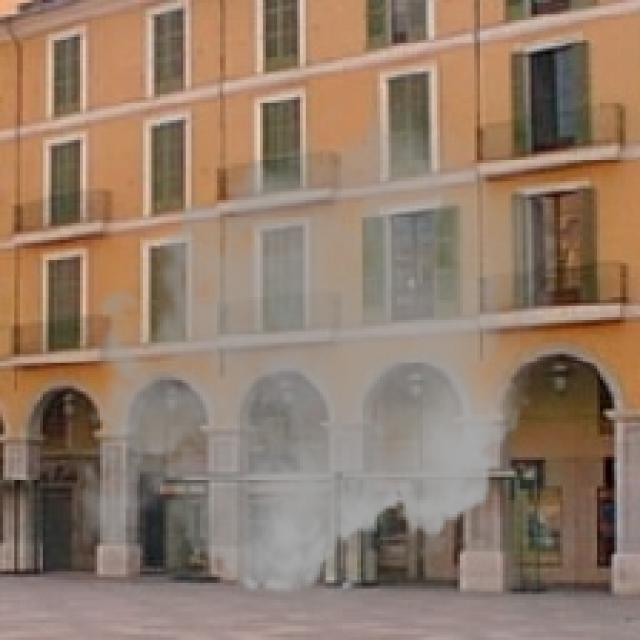Smoke: (59, 86, 574, 608)
